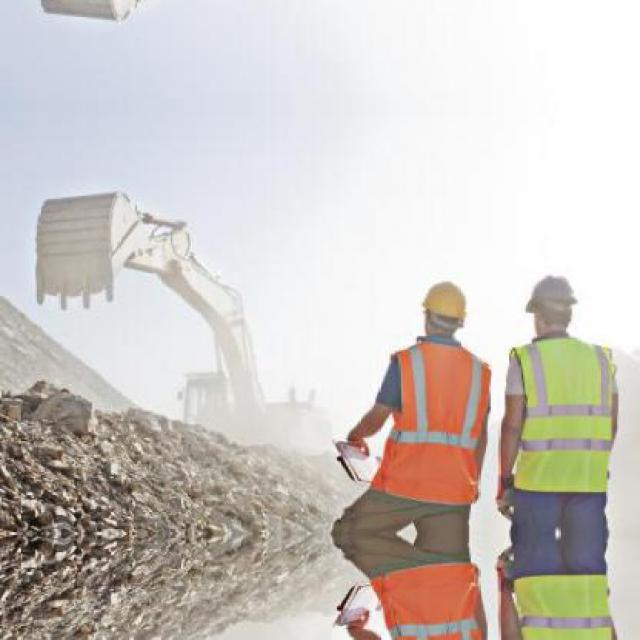reflective_jacket: (362, 334, 495, 513), (497, 329, 628, 507)
safety_helmet: (409, 273, 478, 334), (515, 263, 587, 320)
